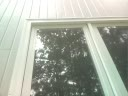window: (0, 8, 27, 95), (34, 44, 59, 62), (30, 88, 62, 96), (85, 67, 91, 76)
